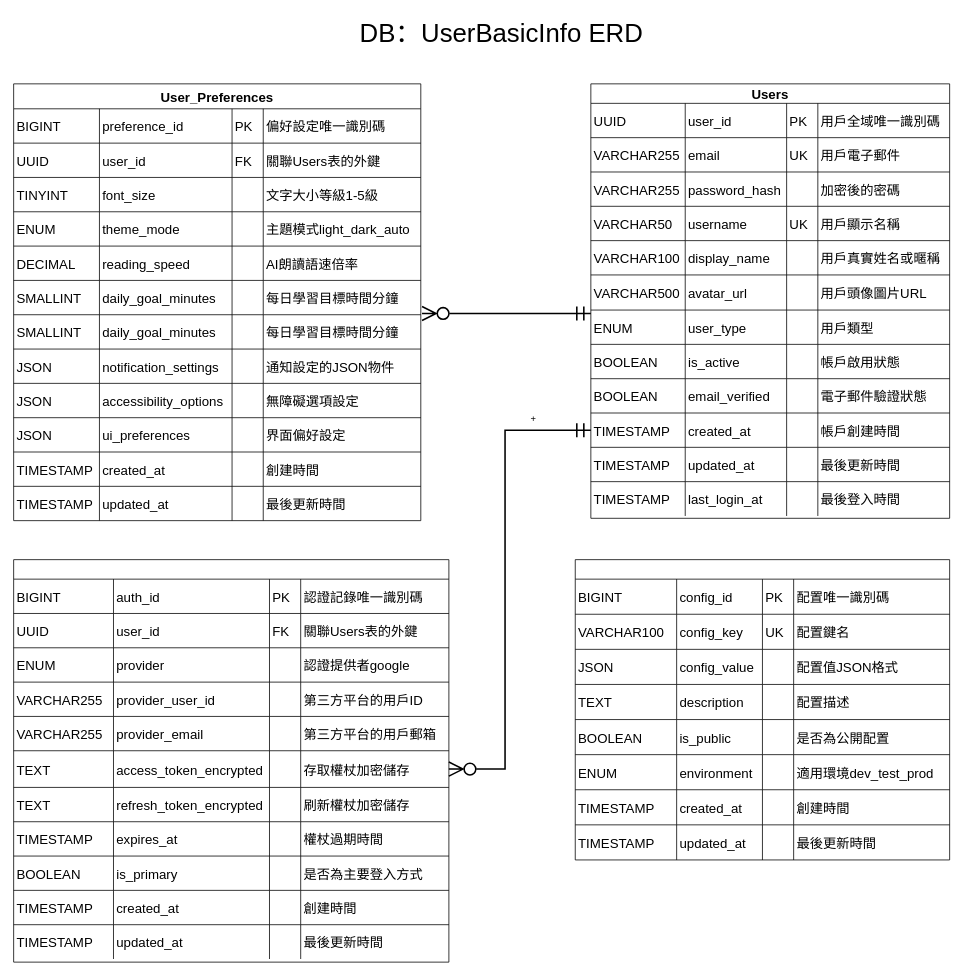
Image size: 963x976. Some labels were removed from this diagram. Each missing label, with the box of its shape:
System_Config: (574, 559, 950, 860)
User_Auth_Providers: (13, 559, 449, 962)
